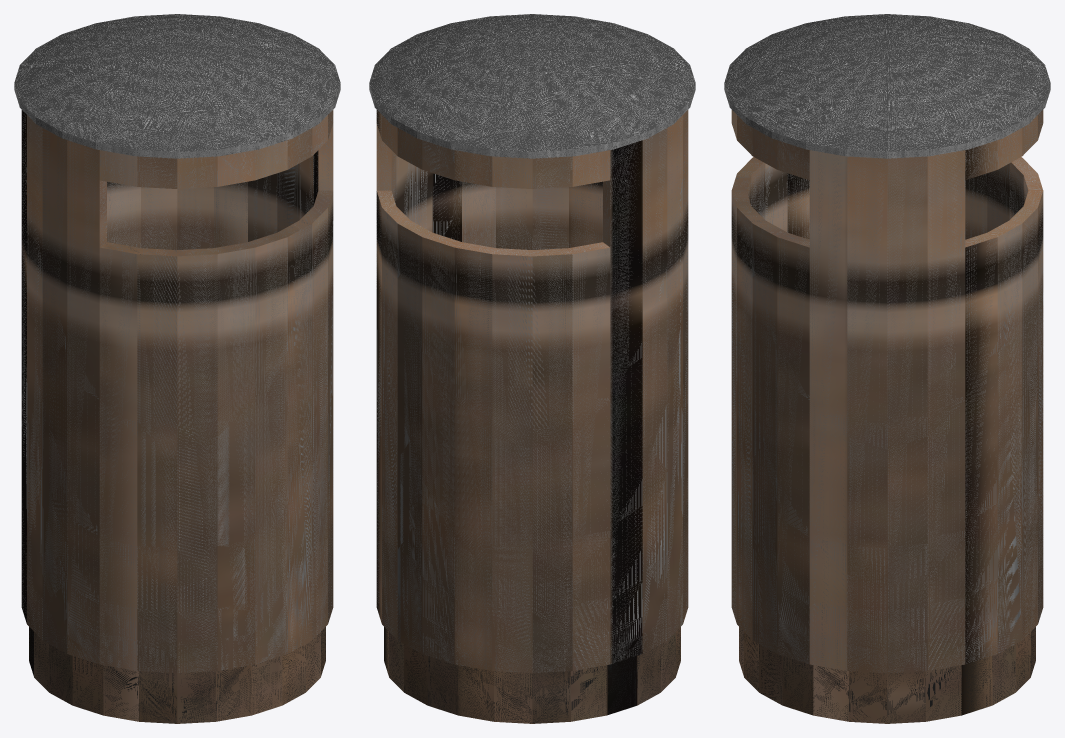
3 views of the same model, side by side, from view 1: azimuth 30°, elevation 25°; view 2: azimuth 150°, elevation 25°; view 3: azimuth 270°, elevation 25° (orthographic).
Visible parts, largest first — view 1: mesh1_mesh1-geometry; view 2: mesh1_mesh1-geometry; view 3: mesh1_mesh1-geometry.
Part boxes in pixels (bbox=[...]): mesh1_mesh1-geometry: bbox=[14, 14, 340, 723]; mesh1_mesh1-geometry: bbox=[369, 14, 695, 723]; mesh1_mesh1-geometry: bbox=[724, 14, 1050, 723].
Bounding box in the file's own units: 0.3991 × 0.8255 × 0.3991.
